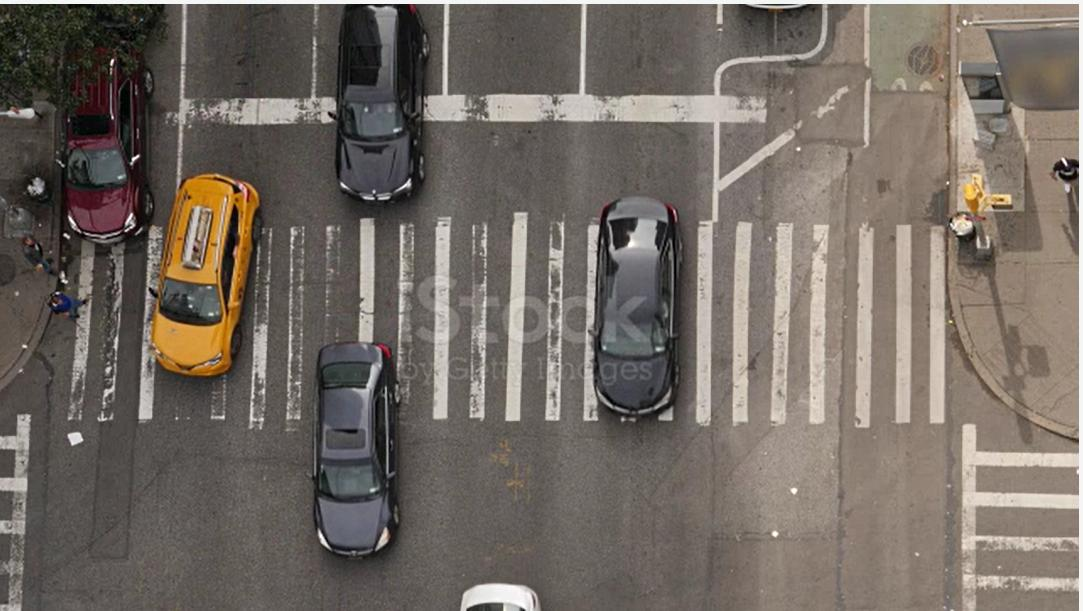car: (568, 157, 699, 465), (282, 304, 422, 576), (298, 0, 452, 228), (27, 31, 166, 253), (145, 159, 277, 385)
